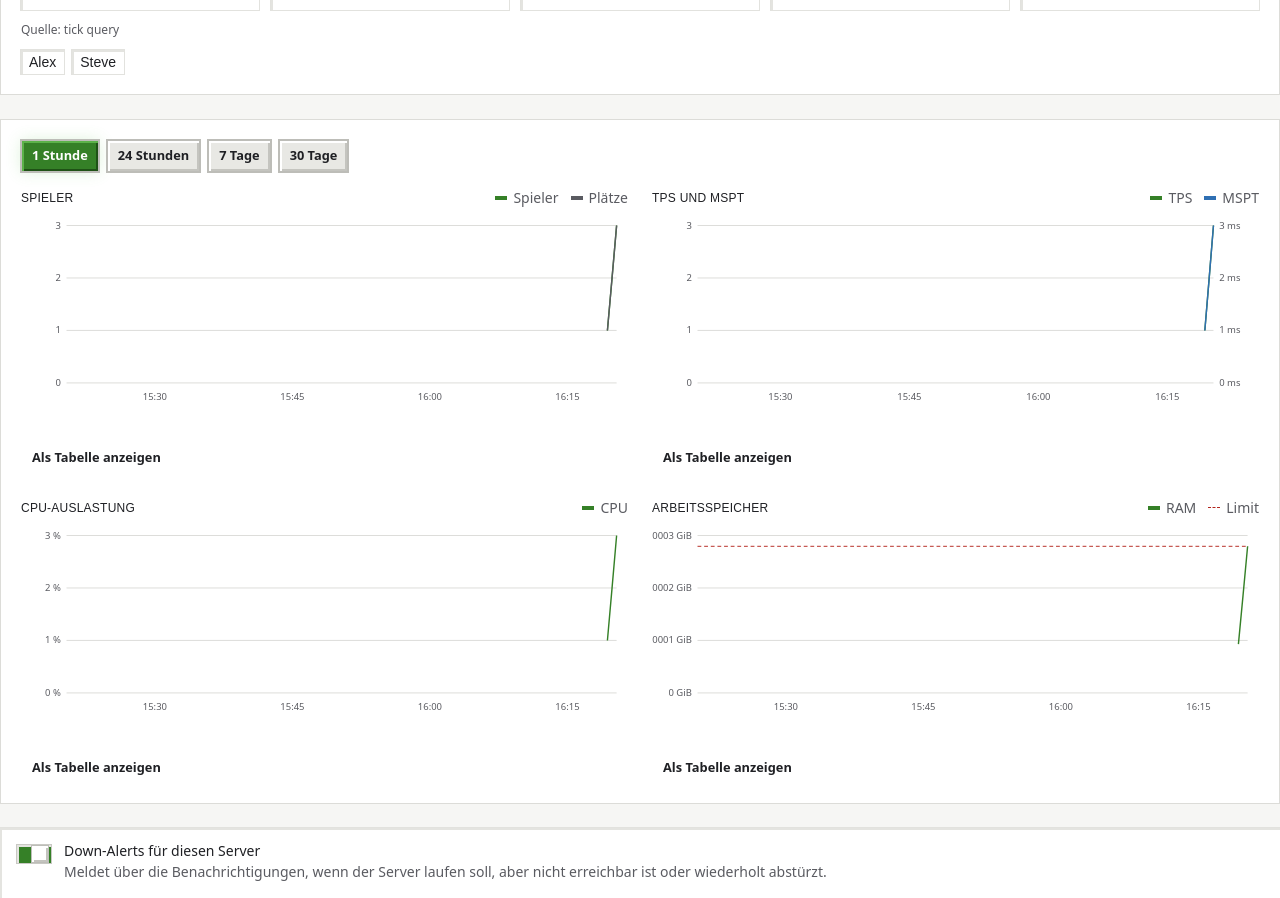
Scenario: MonitoringTab › lets admins switch the down alerts of the server
(page scrolled)
Click the switch named "Down-Alerts für diesen Server" at coordinates (34, 854), box [16,844,52,864]
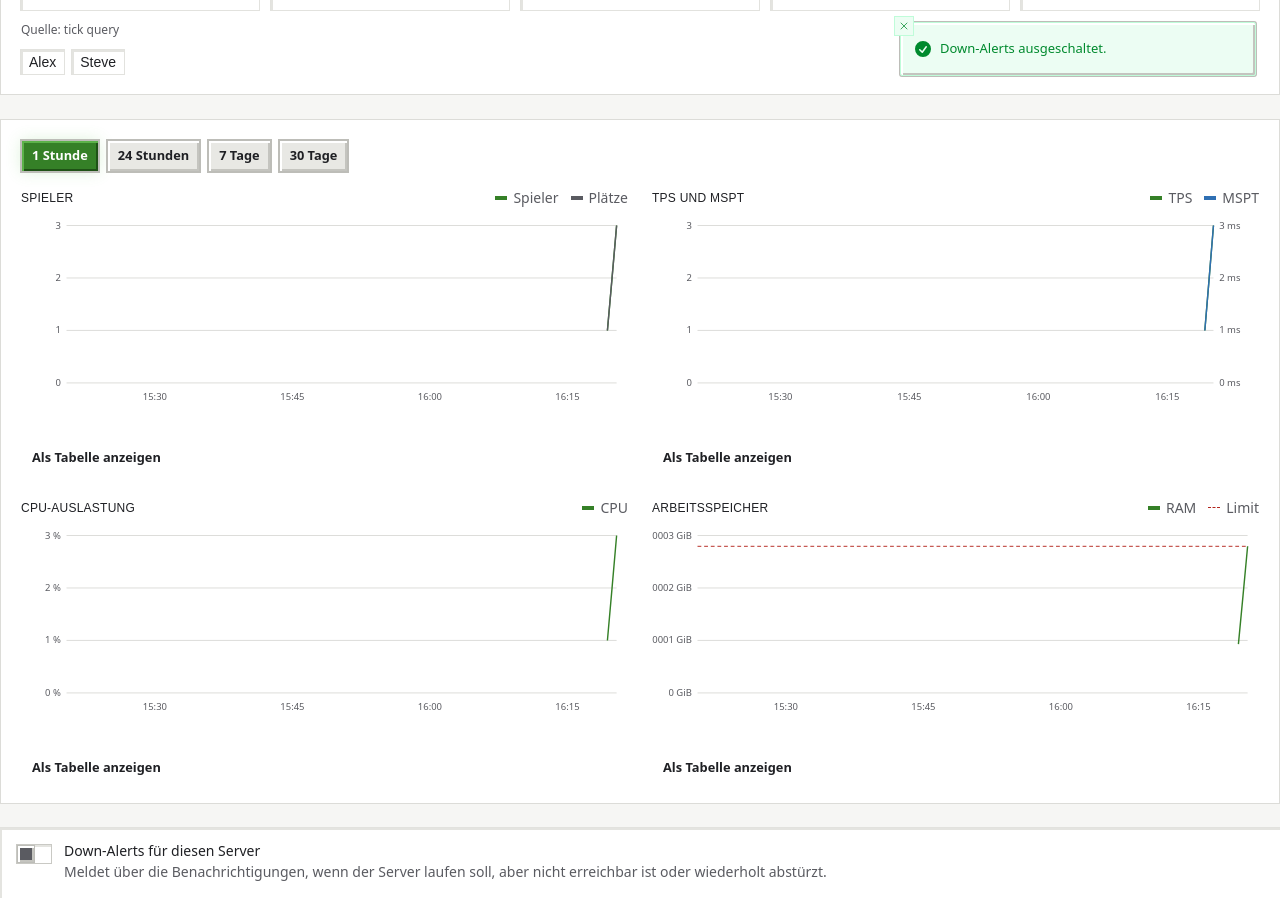
expect the text "Down-Alerts ausgeschaltet." is shown: met, box [940,39,1106,58]
